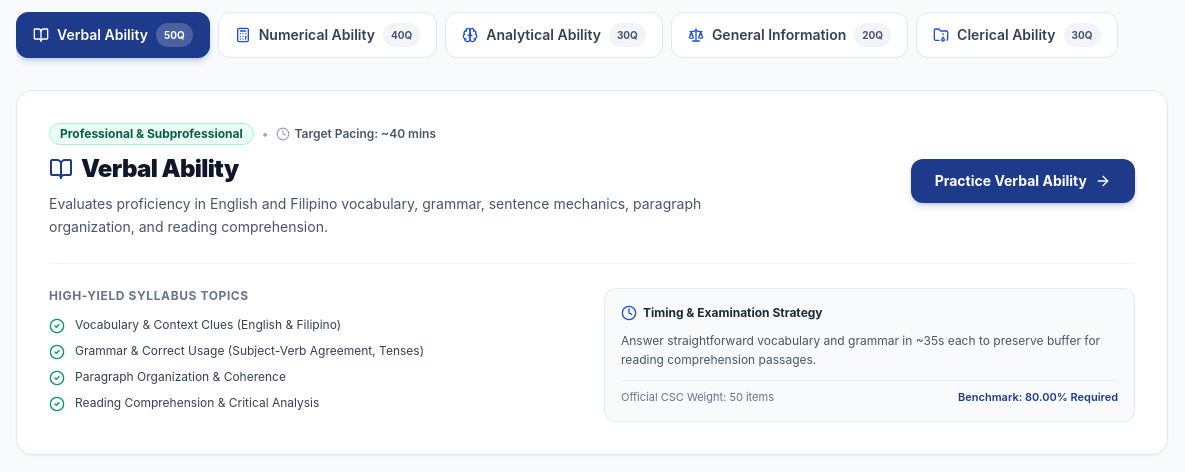
Test case: SubtestExplorer Component › switches to Analytical Ability and verifies Professional exclusivity
Step 1. Click the button "Analytical Ability 30Q" → click(554, 35), box [445,12,663,58]
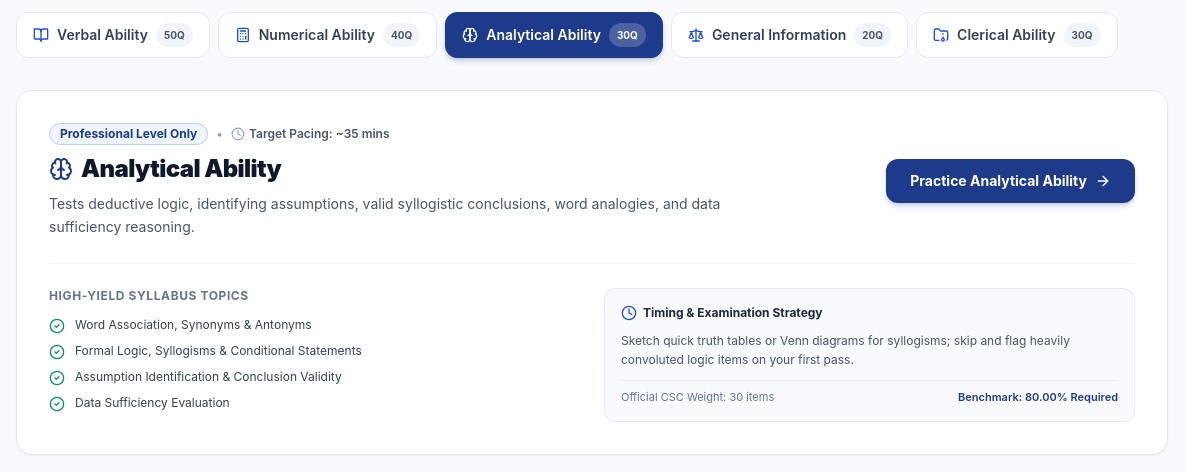
expect the text "Professional Level Only" is shown: met, box [49,123,208,145]
expect the text "Formal Logic, Syllogisms & Conditional Statements" is shown: met, box [75,342,362,360]
